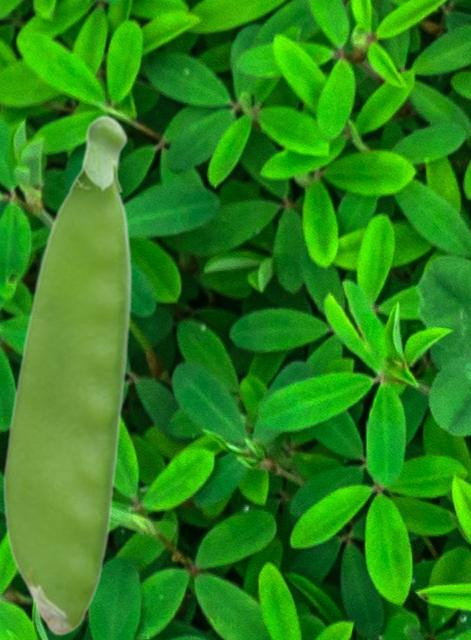pea: (2, 113, 132, 635)
